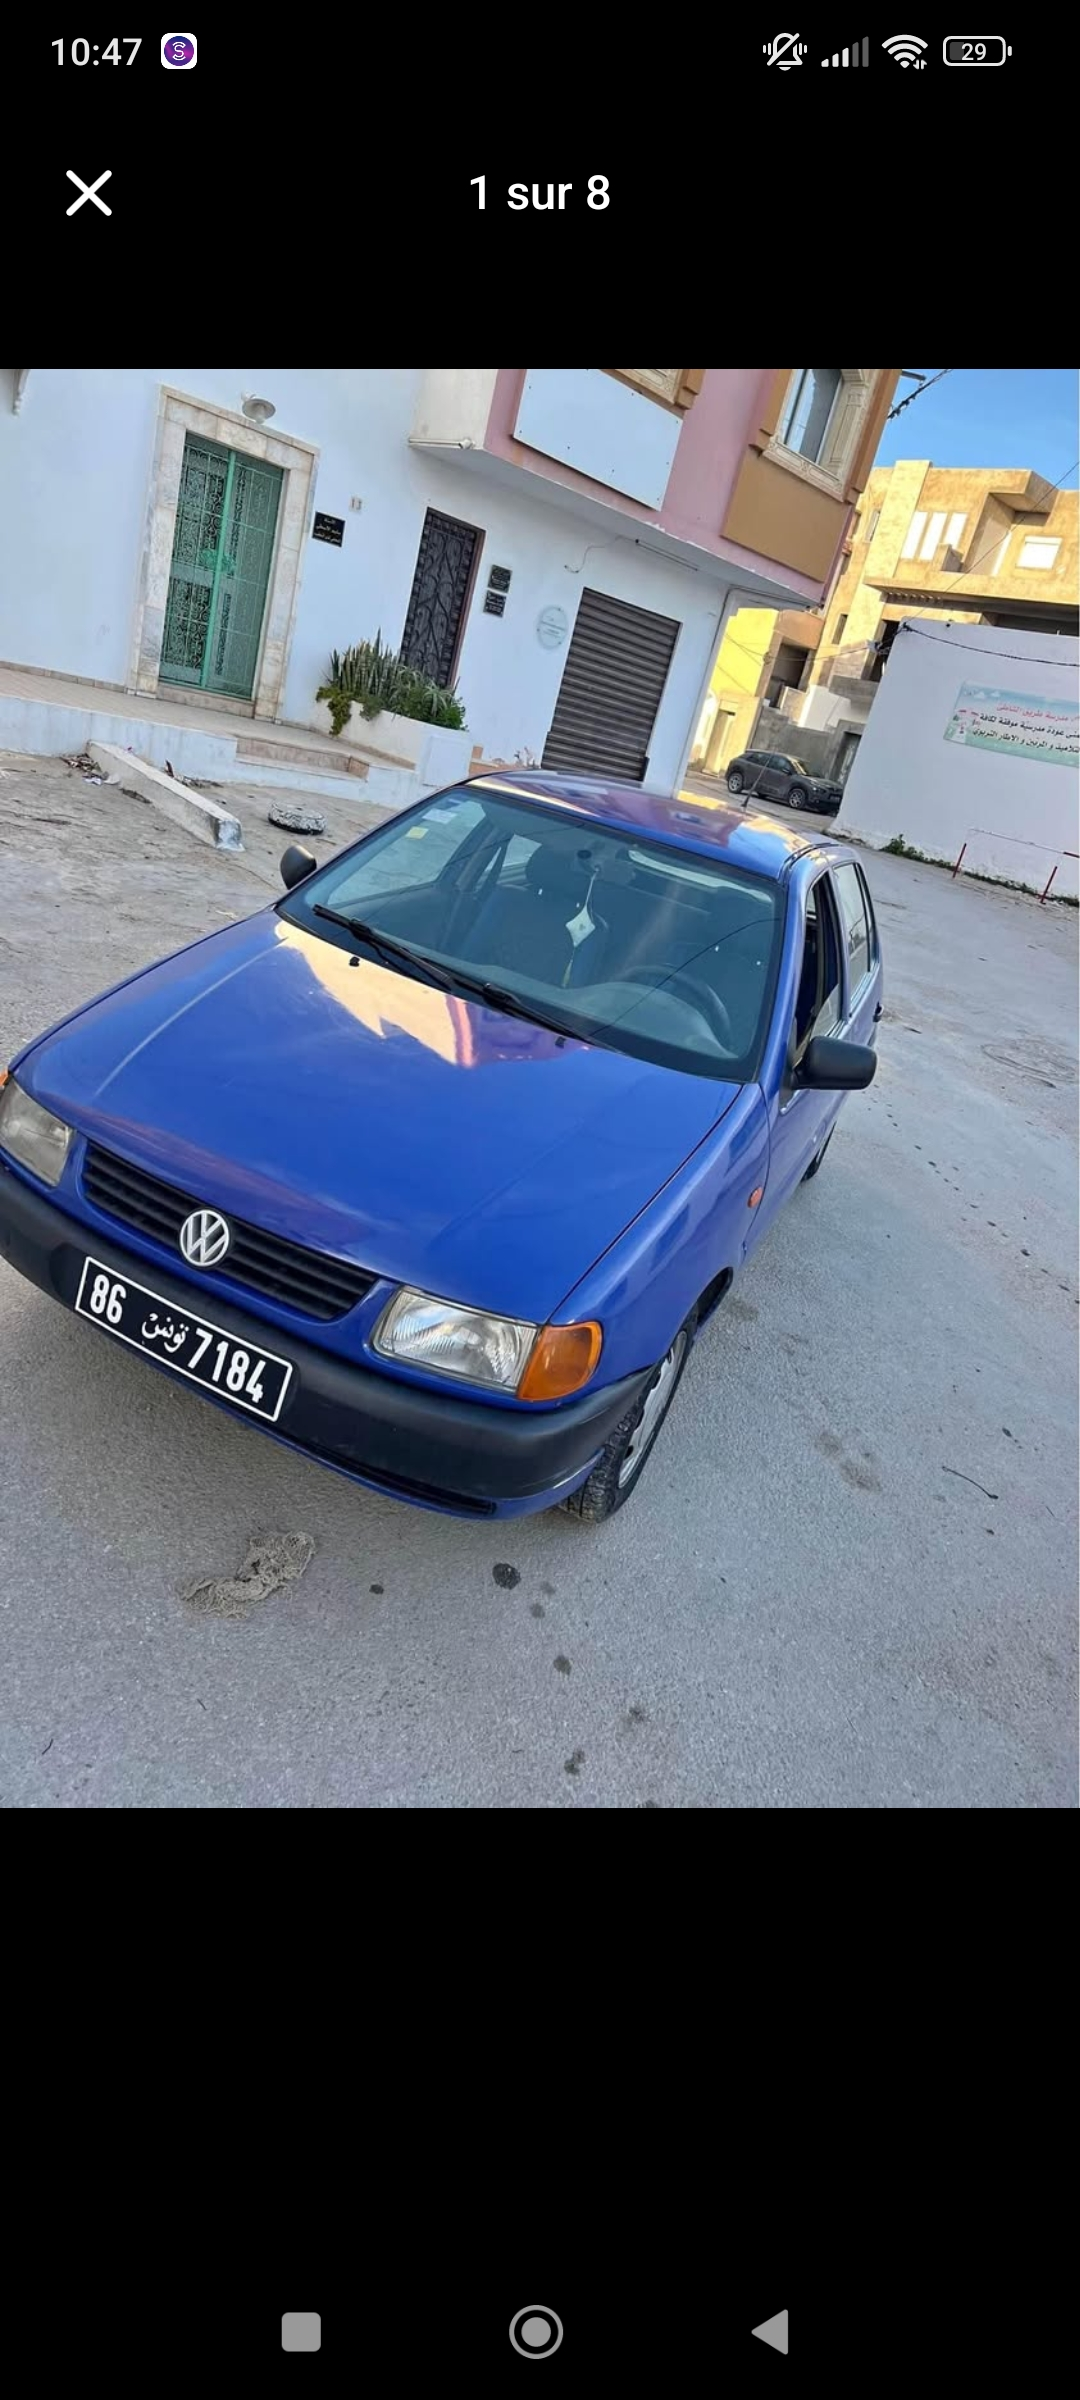volkswagen: (5, 756, 892, 1531)
